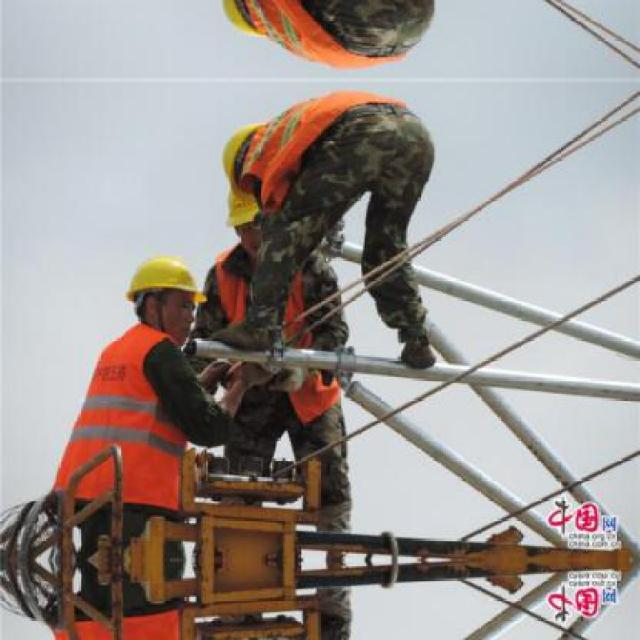helmet: (121, 246, 205, 342), (213, 126, 284, 197), (225, 175, 267, 250), (213, 0, 286, 35)
